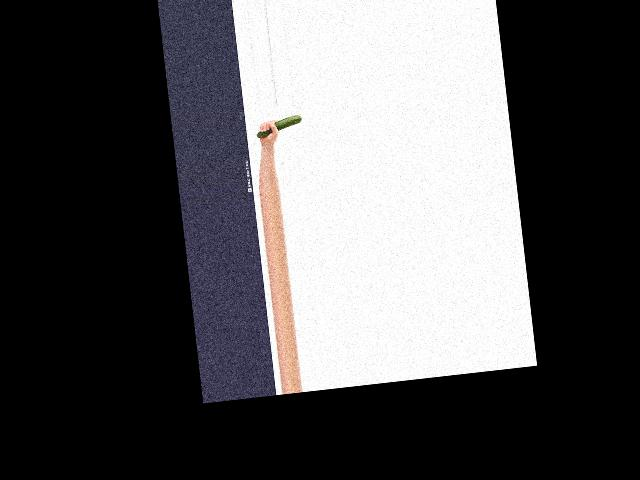cucumber: (254, 114, 303, 137)
